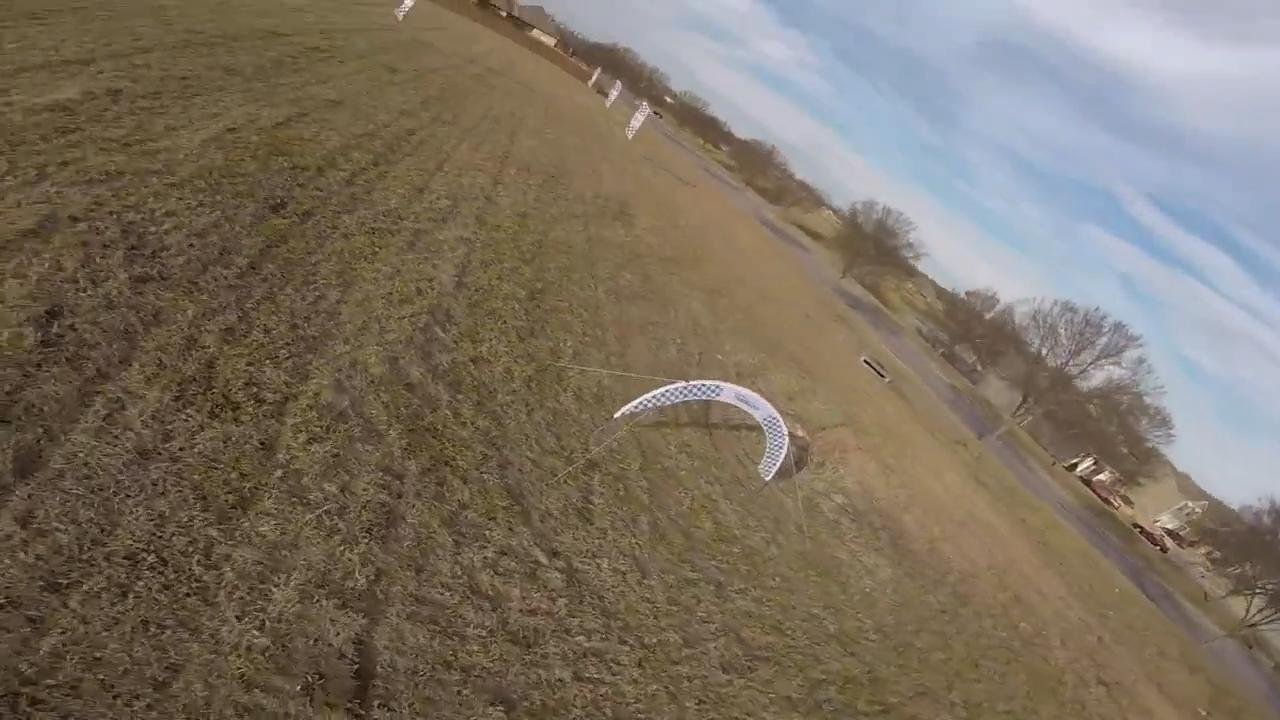gate: (611, 376, 790, 482)
